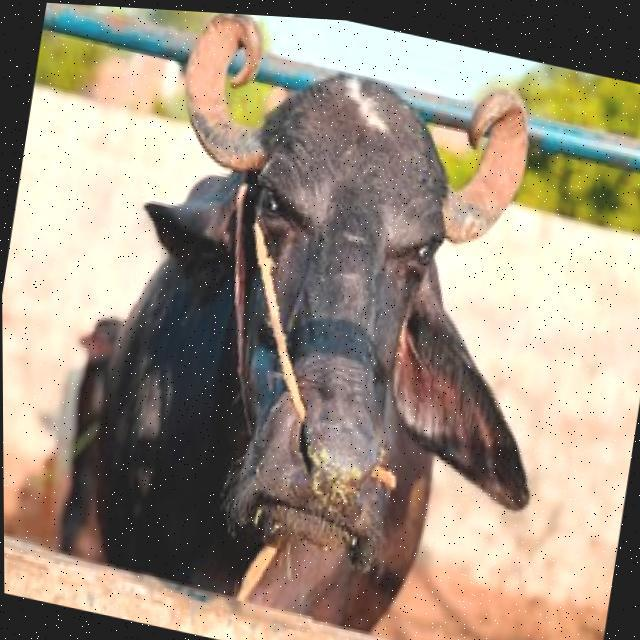Buffalo: (48, 3, 599, 640)
